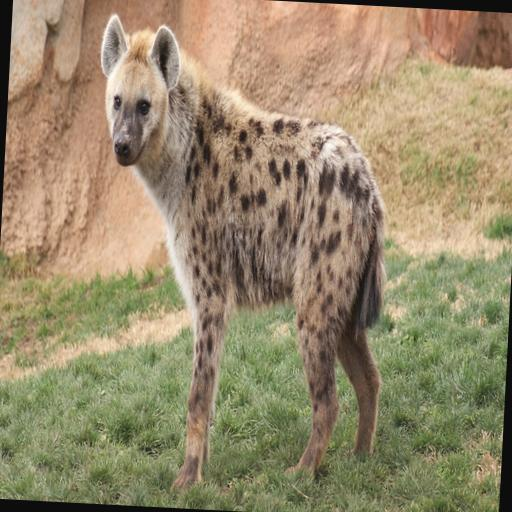hyenas: (81, 0, 433, 512)
